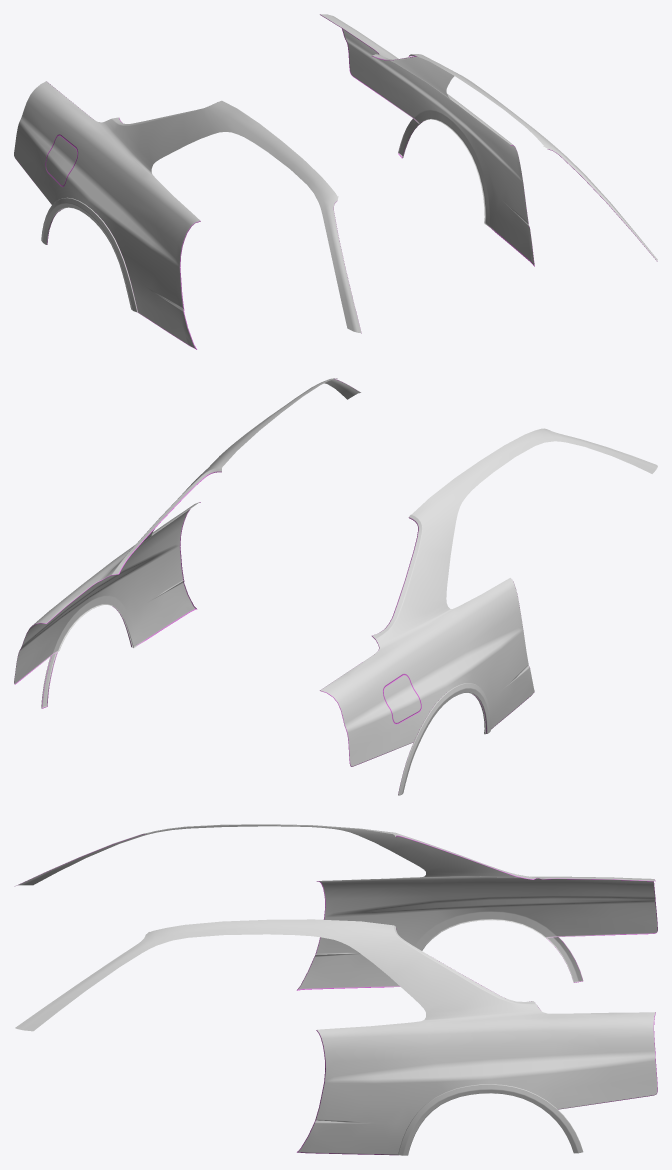
The model's file is Car_Nissan_SkylineGTRVspecR34_1999_FendersR_SetD_AltA.fbx.
3 renders of one model, top to bottom at view 1: azimuth 30°, elevation 25°; view 2: azimuth 150°, elevation 25°; view 3: azimuth 270°, elevation 25°, orthographic.
Visible parts, largest first — view 1: FendersR 6; view 2: FendersR 6; view 3: FendersR 6.
Part boxes in pixels (bbox=[...]): FendersR 6: bbox=[14, 14, 657, 349]; FendersR 6: bbox=[14, 378, 657, 795]; FendersR 6: bbox=[14, 824, 657, 1155].
Bounding box in the file's own units: 1.8 × 0.9508 × 2.79.
